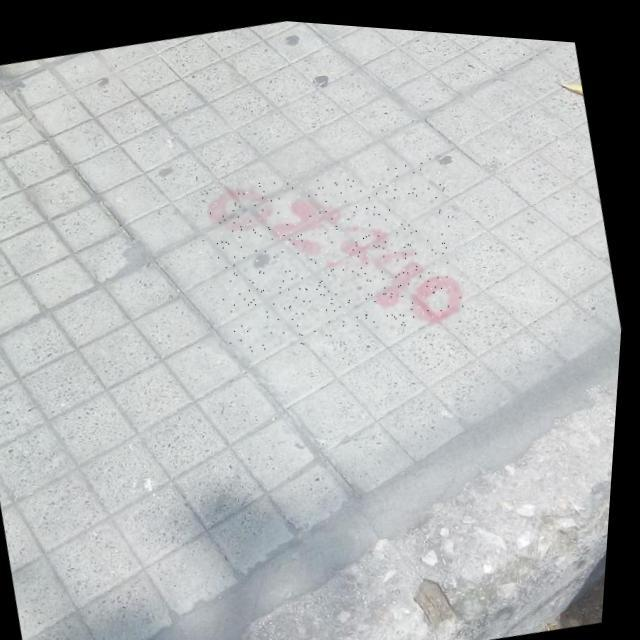-: (200, 134, 478, 365)
